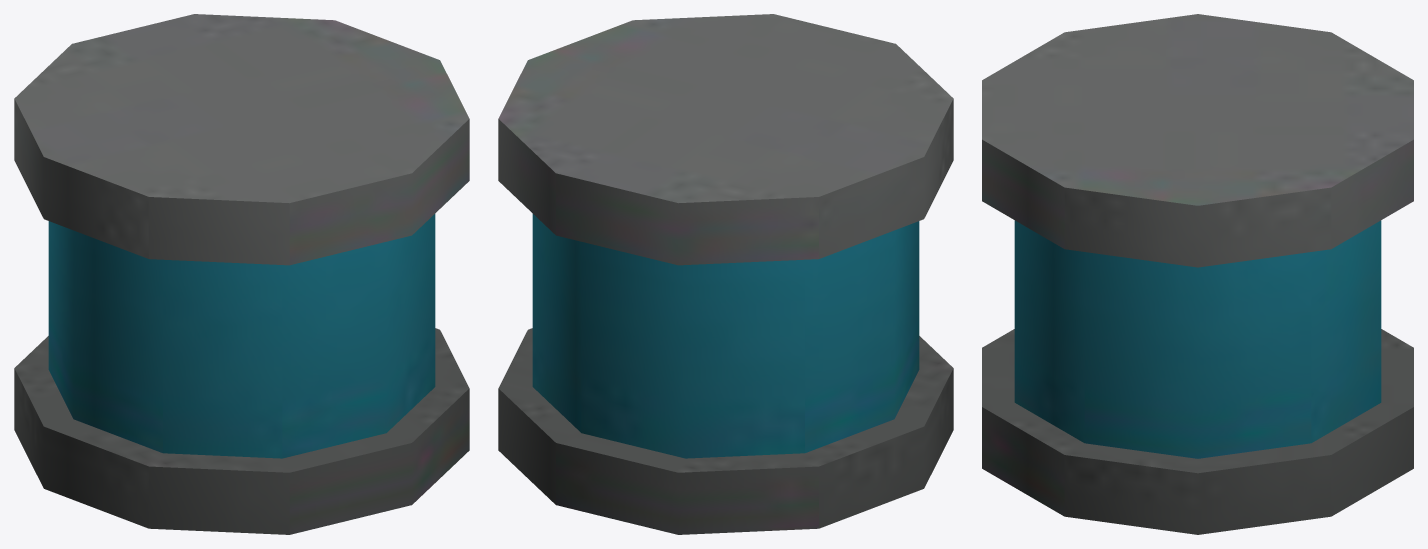
The model's file is fusion-power-cell.glb.
The picture shows the model from 3 angles, left to right: view 1: azimuth 30°, elevation 25°; view 2: azimuth 150°, elevation 25°; view 3: azimuth 270°, elevation 25°; orthographic projection.
Visible parts, largest first — view 1: fusion-power-cell; view 2: fusion-power-cell; view 3: fusion-power-cell.
Boxes of the visible parts, box(x1,y1,x2,y2) form: fusion-power-cell: box(14, 14, 469, 534); fusion-power-cell: box(498, 14, 953, 534); fusion-power-cell: box(982, 14, 1413, 534).
Bounding box in the file's own units: 0.2 × 0.16 × 0.1902.
1 material, 1 textured.
